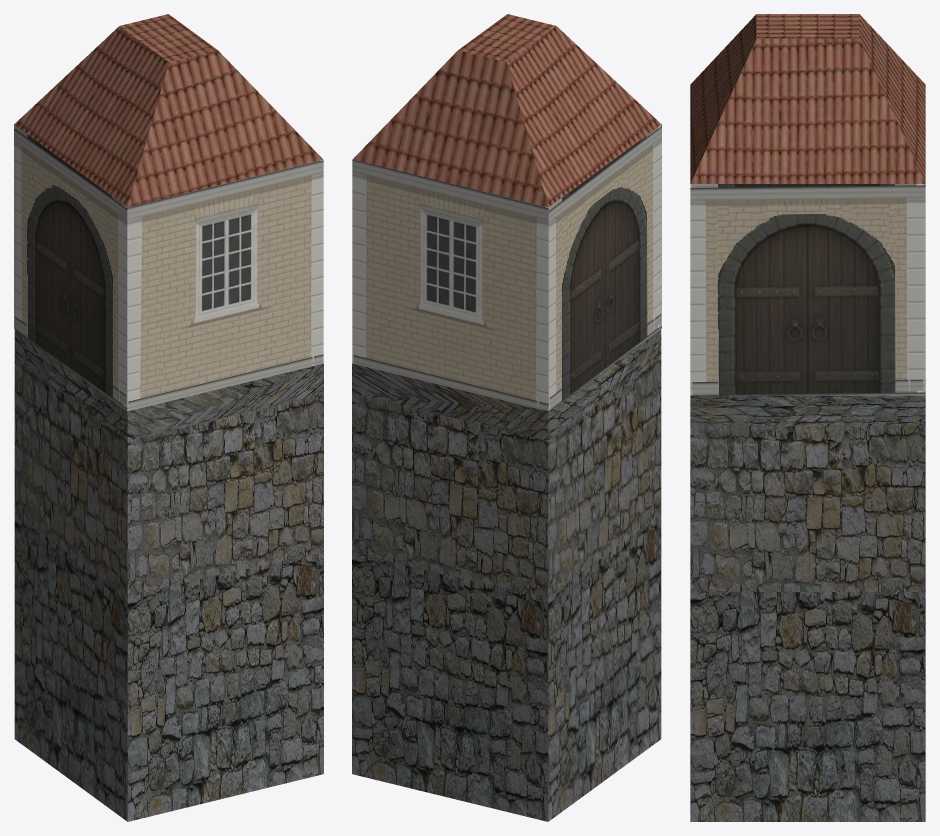
File: miner.glb
The picture shows the model from 3 angles, left to right: view 1: azimuth 30°, elevation 25°; view 2: azimuth 150°, elevation 25°; view 3: azimuth 270°, elevation 25°; orthographic projection. The views are drawn at different scales.
Visible parts, largest first — view 1: Cube.001, Cube; view 2: Cube.001, Cube; view 3: Cube.001, Cube.
Boxes of the visible parts, x1,y1,x2,y2 form: Cube.001: (14, 329, 323, 821); Cube: (14, 14, 323, 411); Cube.001: (352, 329, 661, 821); Cube: (352, 14, 661, 411); Cube.001: (690, 395, 925, 821); Cube: (690, 14, 925, 395).
Size of the model in its own units: 1 by 3.5 by 1.
Materials: 4 (4 with a texture image).
